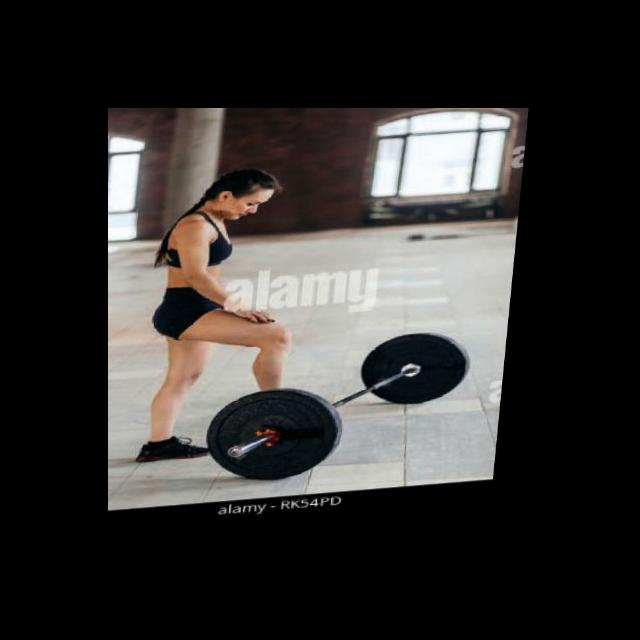barbell: (208, 383, 358, 492)
